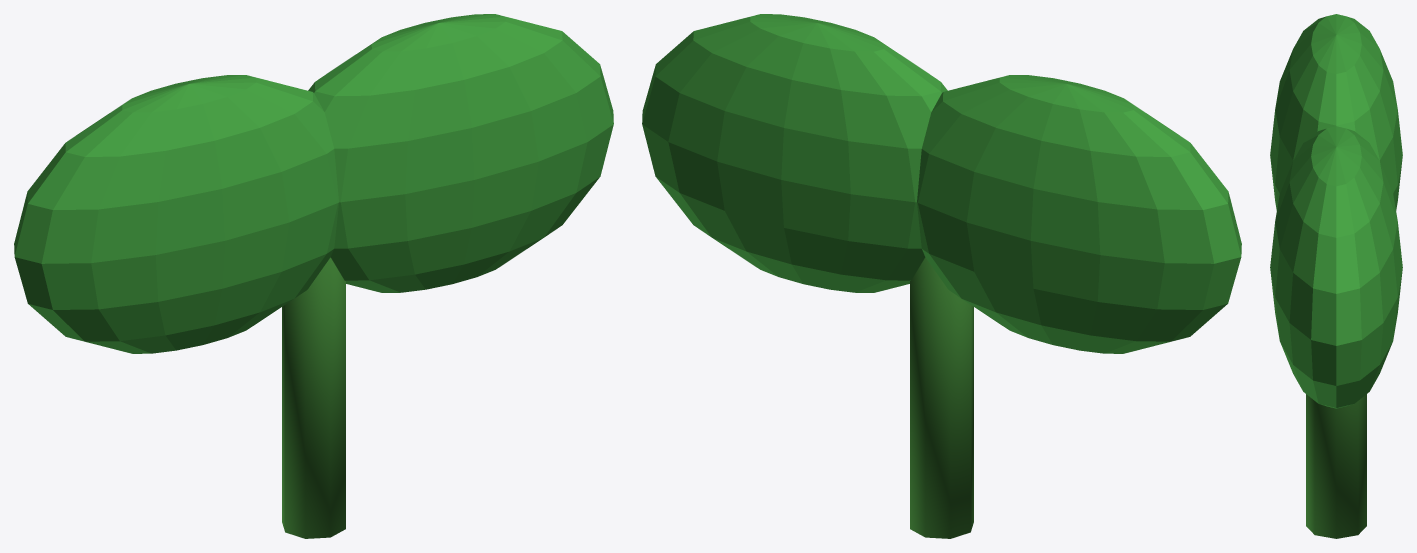
Rendered from crop_sprout.glb.
3 views of the same model, side by side, from view 1: azimuth 30°, elevation 25°; view 2: azimuth 150°, elevation 25°; view 3: azimuth 270°, elevation 25° (orthographic). The views are drawn at different scales.
Visible parts, largest first — view 1: Leaf, Leaf.001, Stem; view 2: Leaf, Leaf.001, Stem; view 3: Leaf.001, Leaf, Stem.
Boxes of the visible parts, x1=… form: Leaf: x1=14, y1=75, x2=338, y2=353; Leaf.001: x1=308, y1=14, x2=613, y2=292; Stem: x1=282, y1=257, x2=345, y2=538; Leaf: x1=917, y1=75, x2=1241, y2=353; Leaf.001: x1=642, y1=14, x2=947, y2=292; Stem: x1=910, y1=257, x2=973, y2=538; Leaf.001: x1=1270, y1=126, x2=1402, y2=408; Leaf: x1=1270, y1=14, x2=1402, y2=210; Stem: x1=1306, y1=394, x2=1366, y2=538.
Bounding box in the file's own units: 0.624 × 0.47 × 0.13.
